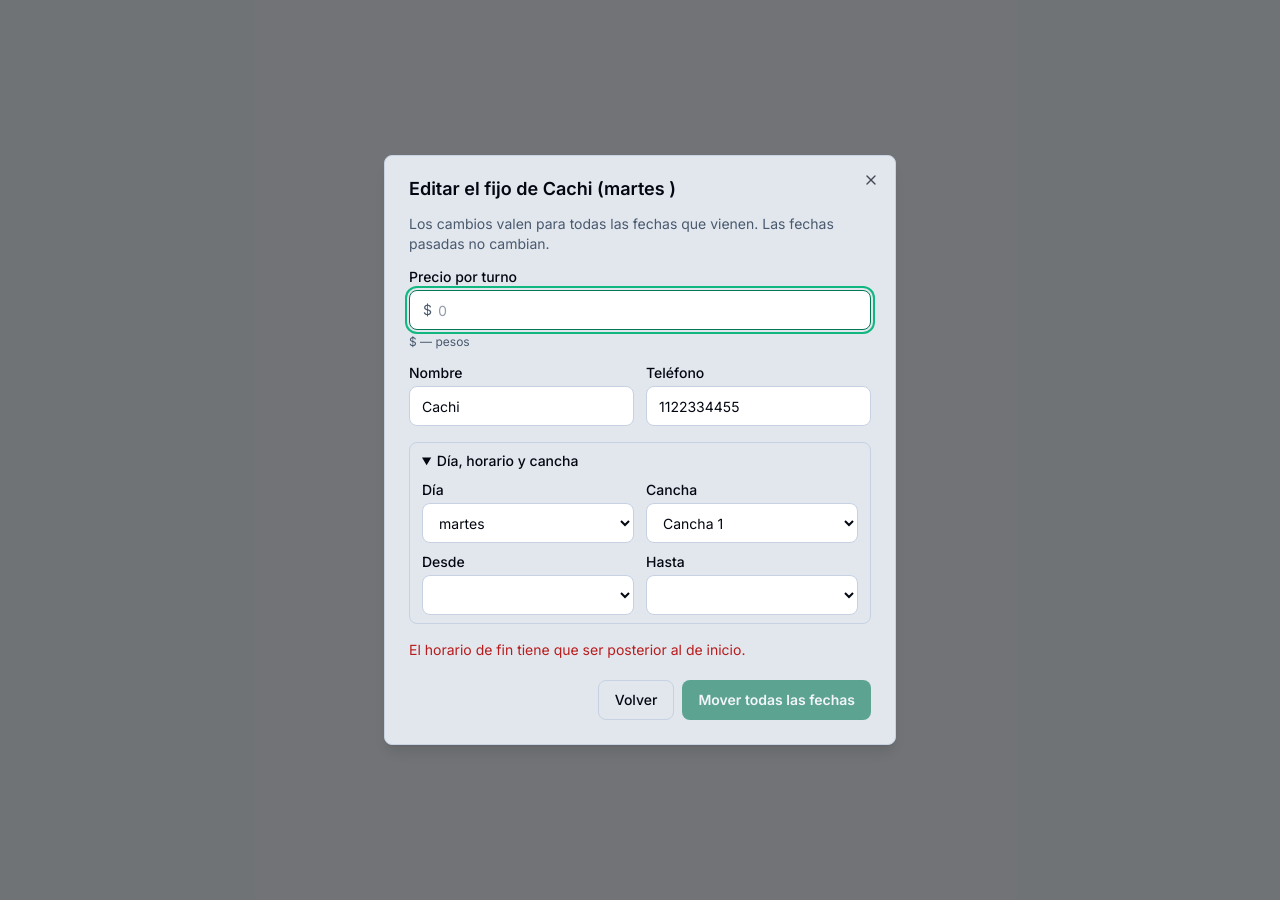
Scenario: AbonadoEditDialog › el aviso de choque del servidor se va cuando el encargado cambia los datos
This screenshot has width=1280, height=900.
Later steps or results of the test are not shown.
Select "20:00" in the dropdown labelled "Desde": (528, 595) [422,575,634,615]
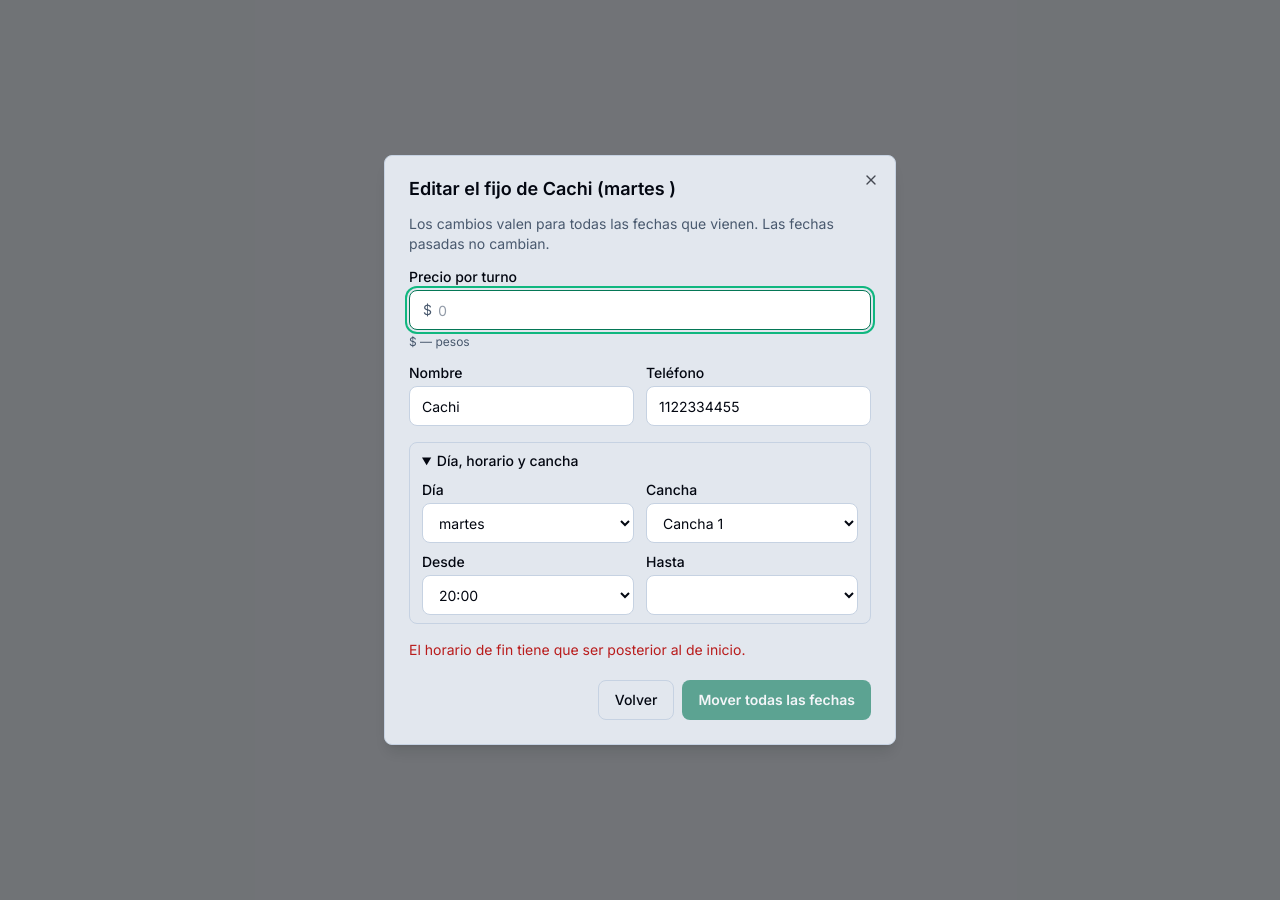
Select "21:00" in the dropdown labelled "Hasta": (752, 595) [646,575,858,615]
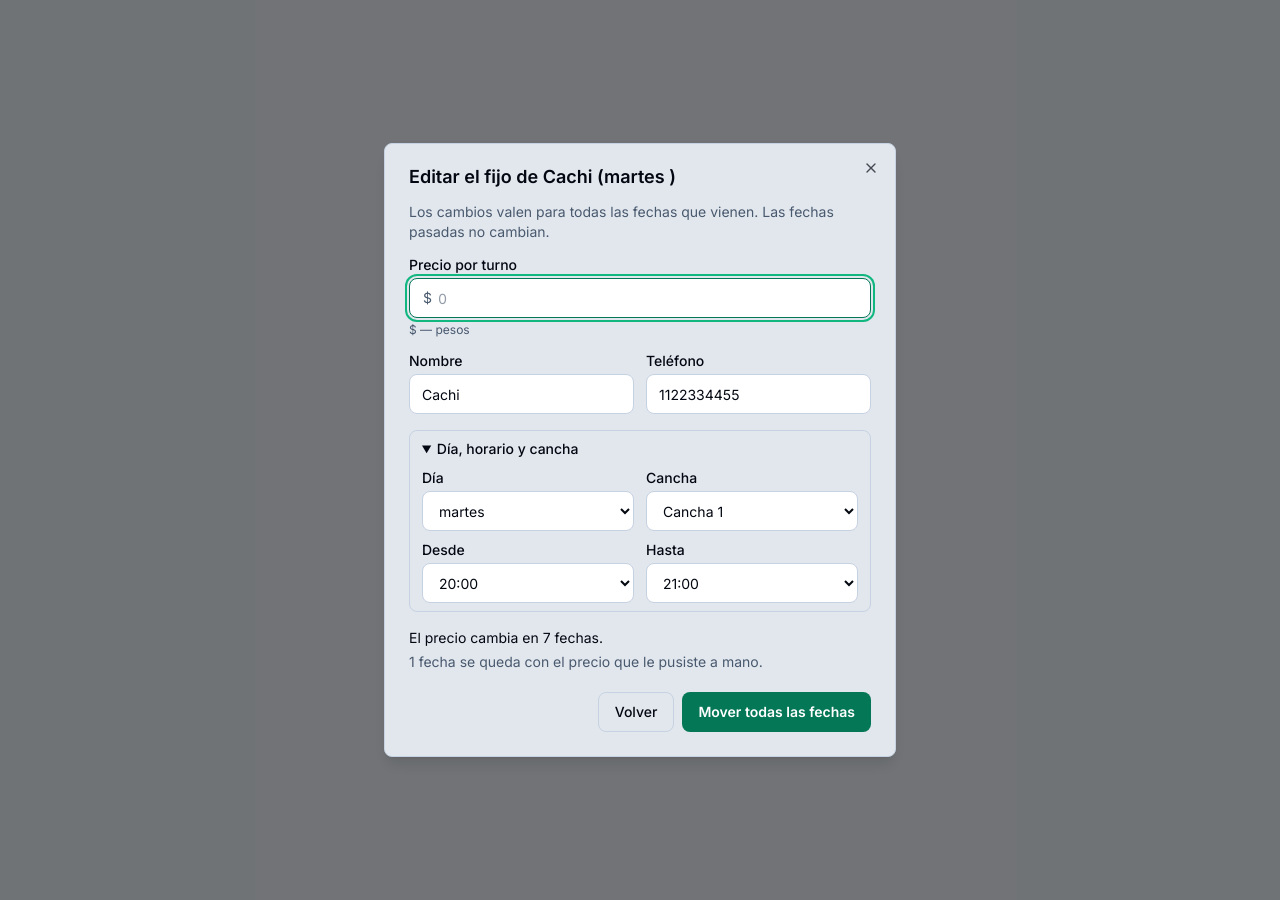
expect the button "Mover todas las fechas" is enabled: met
Click the button "Mover todas las fechas": click(777, 712) [682,692,871,732]
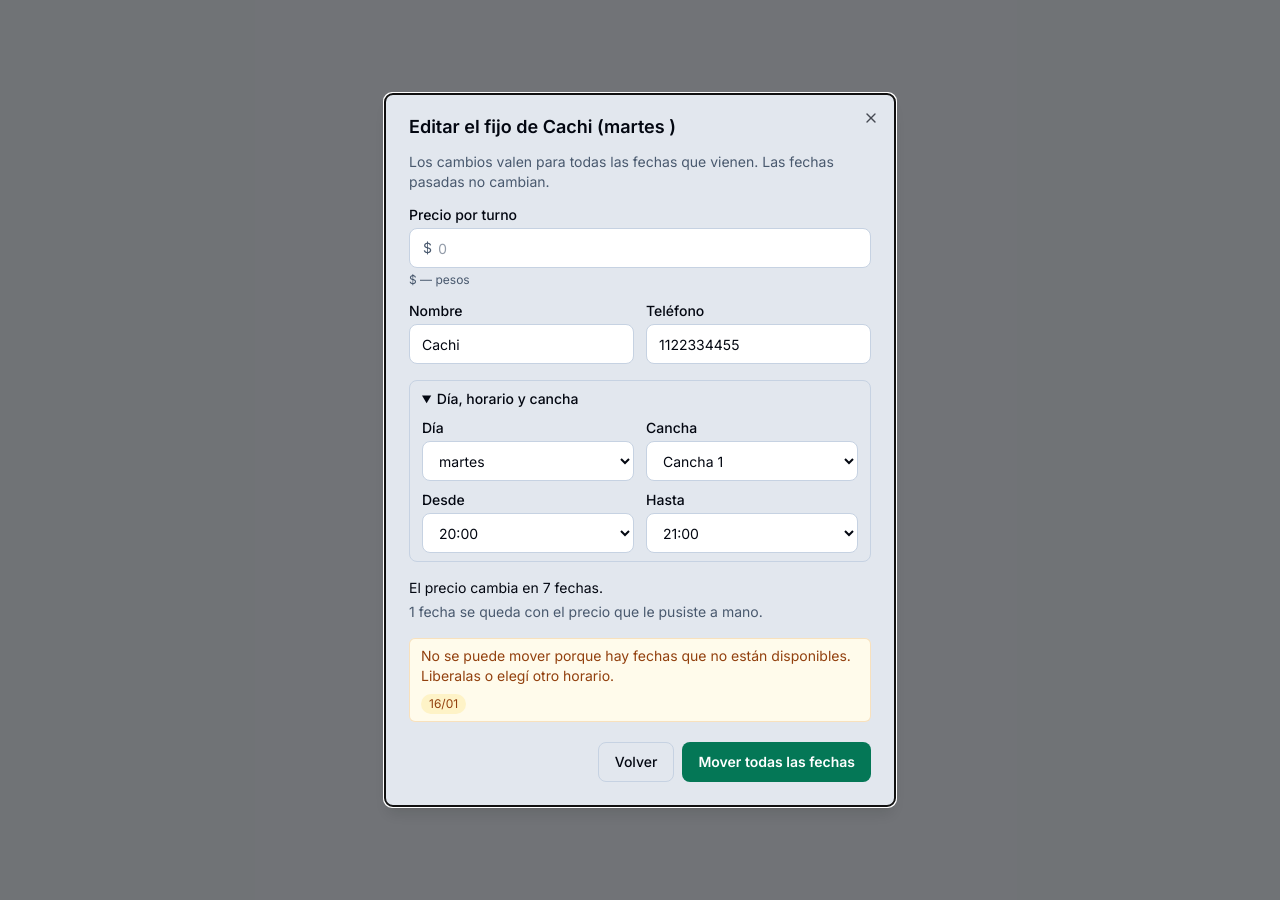
expect the list item "16/01" is shown: met, box [421,694,466,714]
